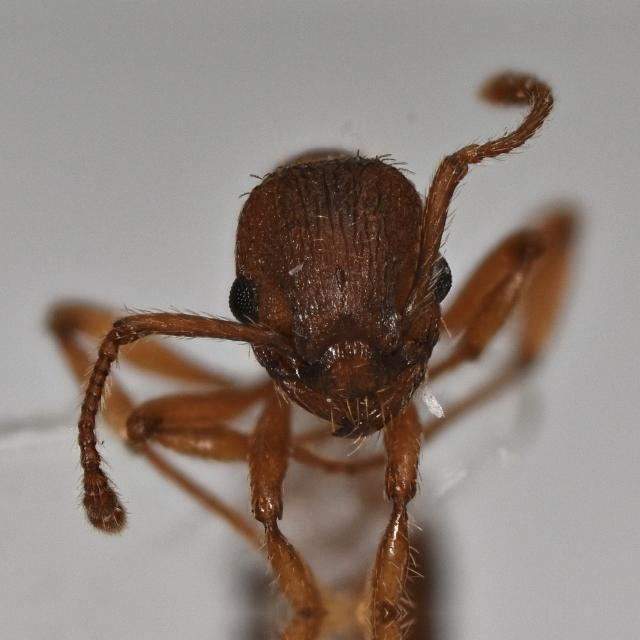Myrmica: (141, 89, 584, 603)
